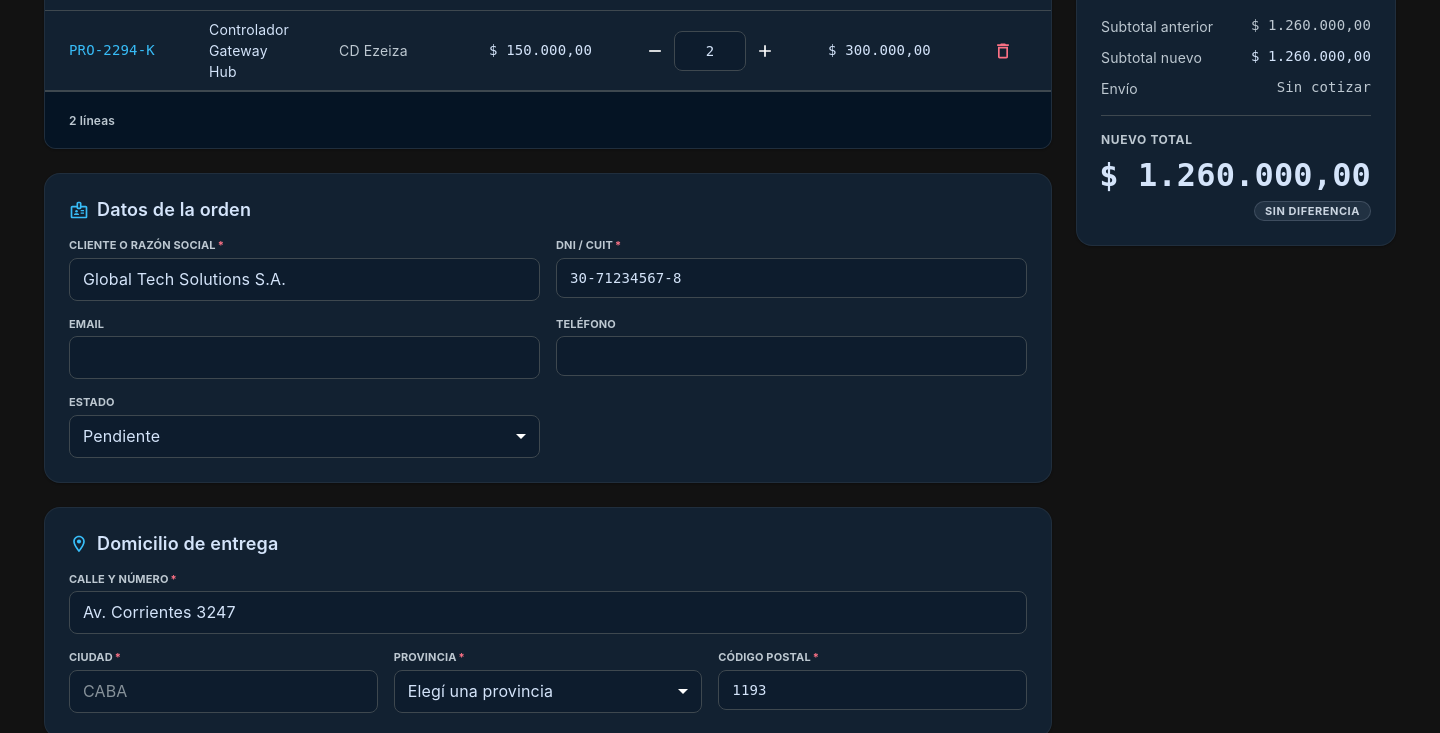
Test: OrderEditPage › an order that came by webhook without city nor province › can still be marked as paid
(page scrolled)
Press the mouse on the dropdown named "Estado" at (122, 436), box [83,426,160,446]
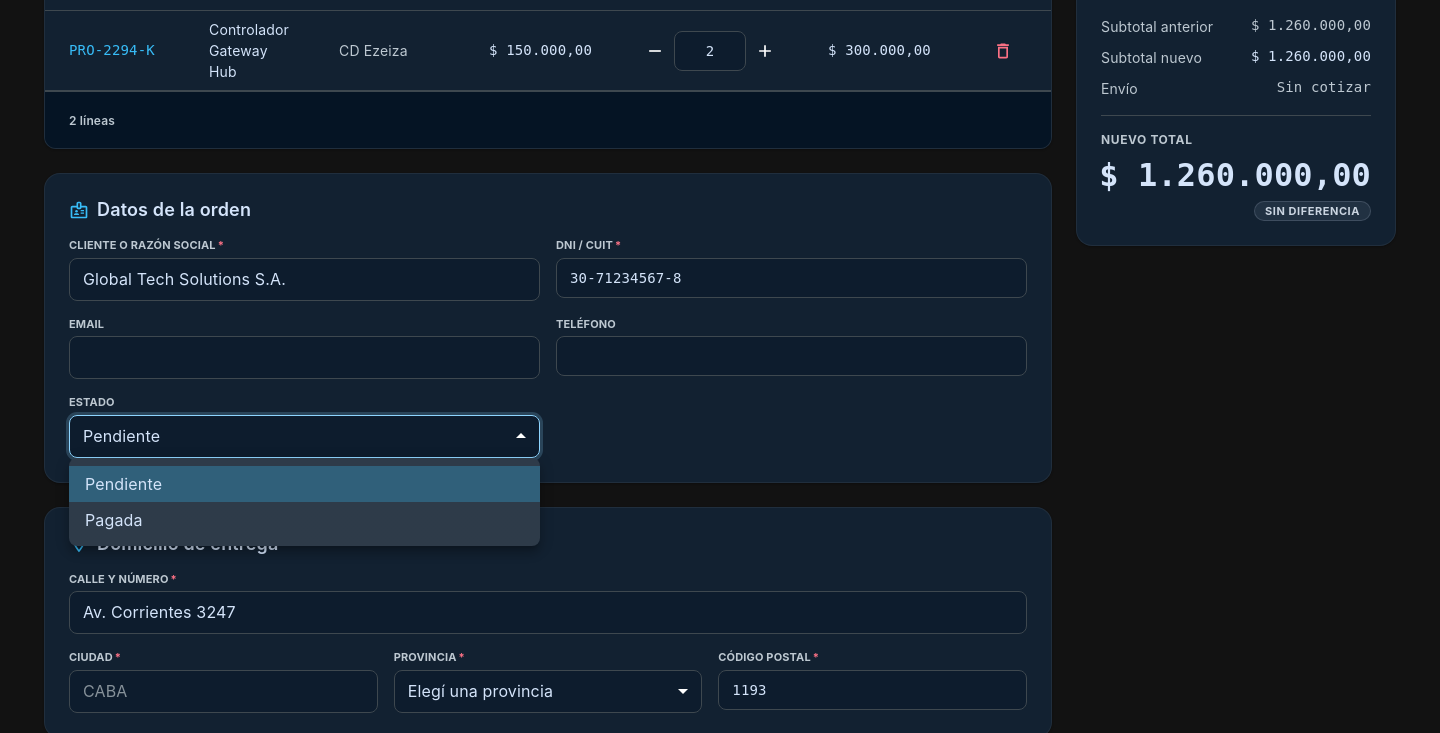
Click the option "Pagada" at (114, 520), box [85,510,143,530]
(page scrolled)
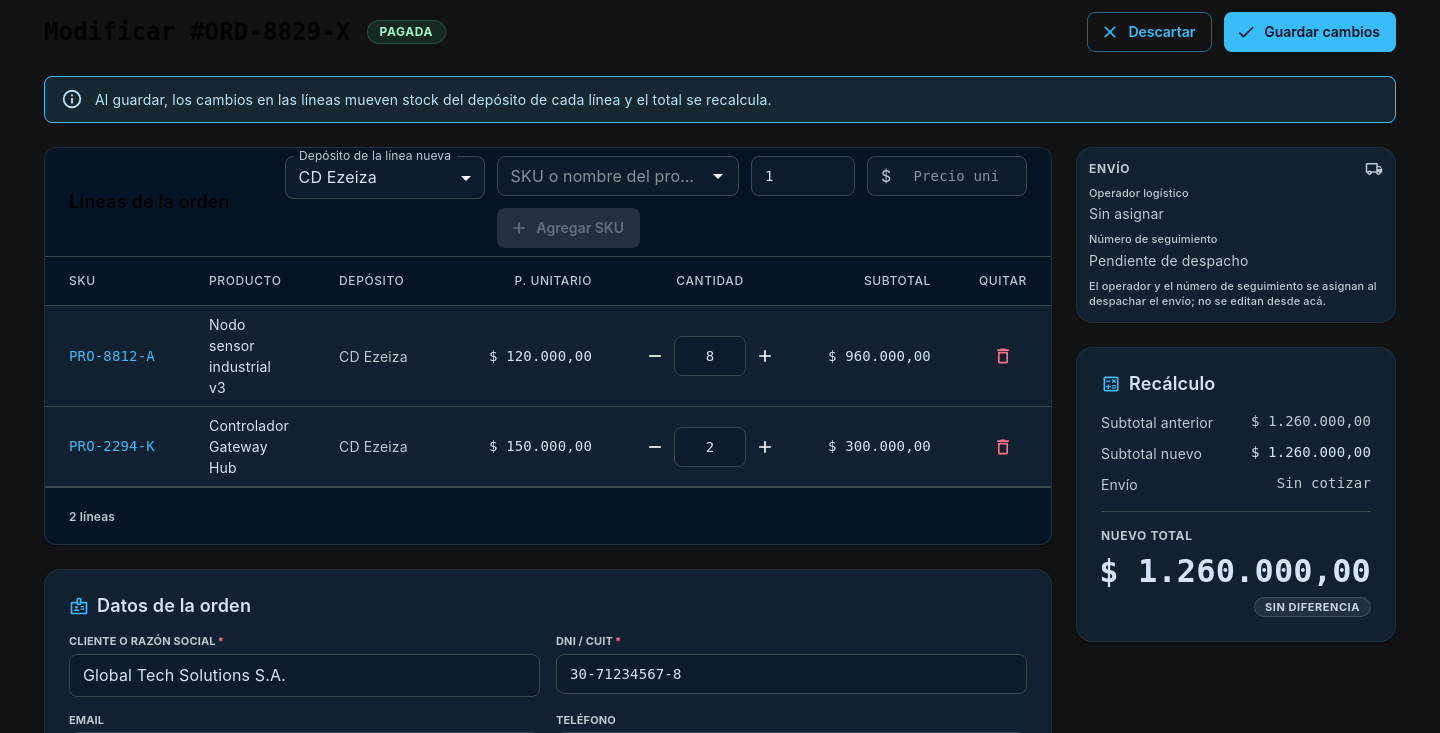
Expected: the button "Guardar cambios" is enabled, [1224,12,1396,52]
